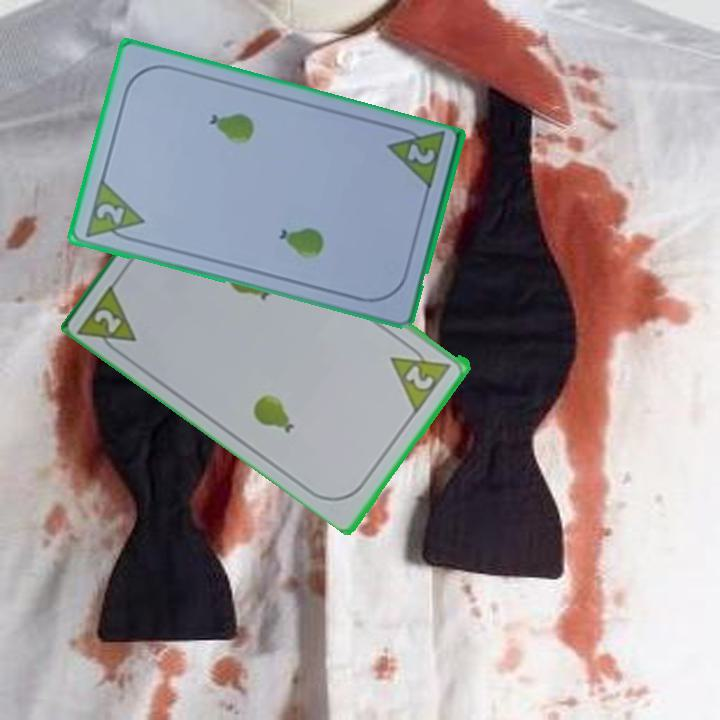2p: (75, 278, 141, 361), (402, 361, 437, 393), (92, 200, 127, 228), (403, 140, 438, 168)
